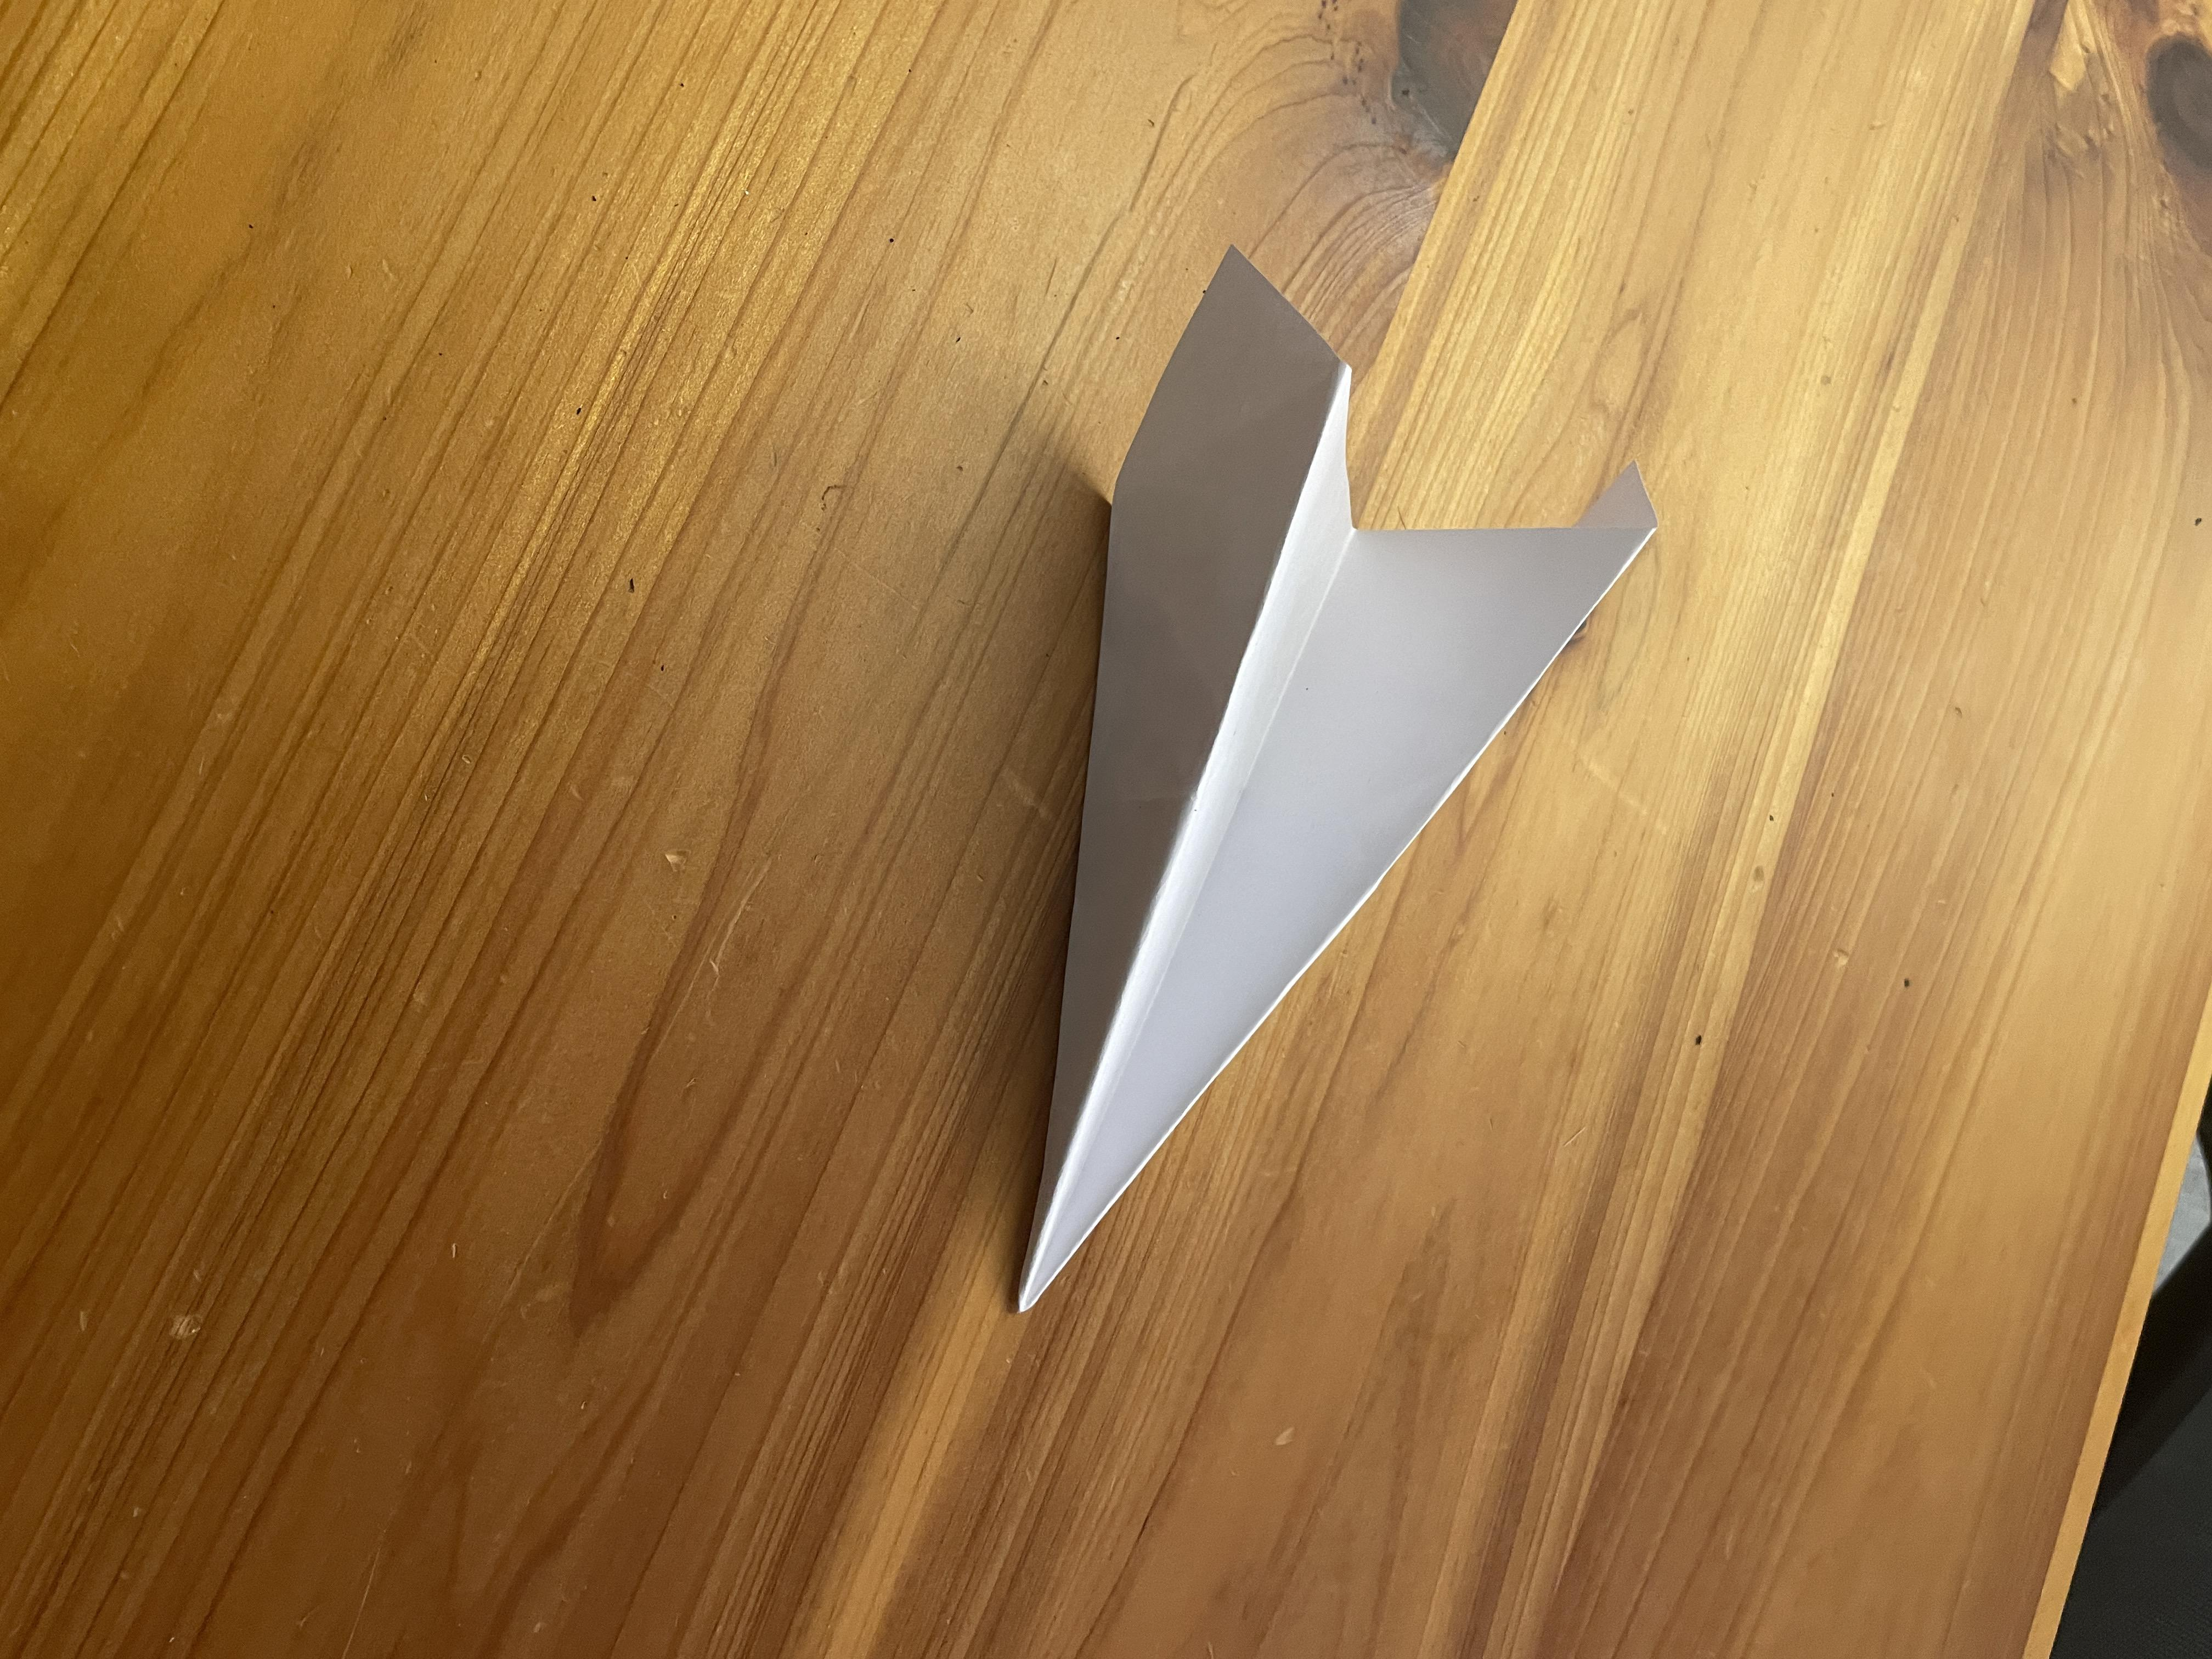shape_3: (954, 186, 1707, 1377)
